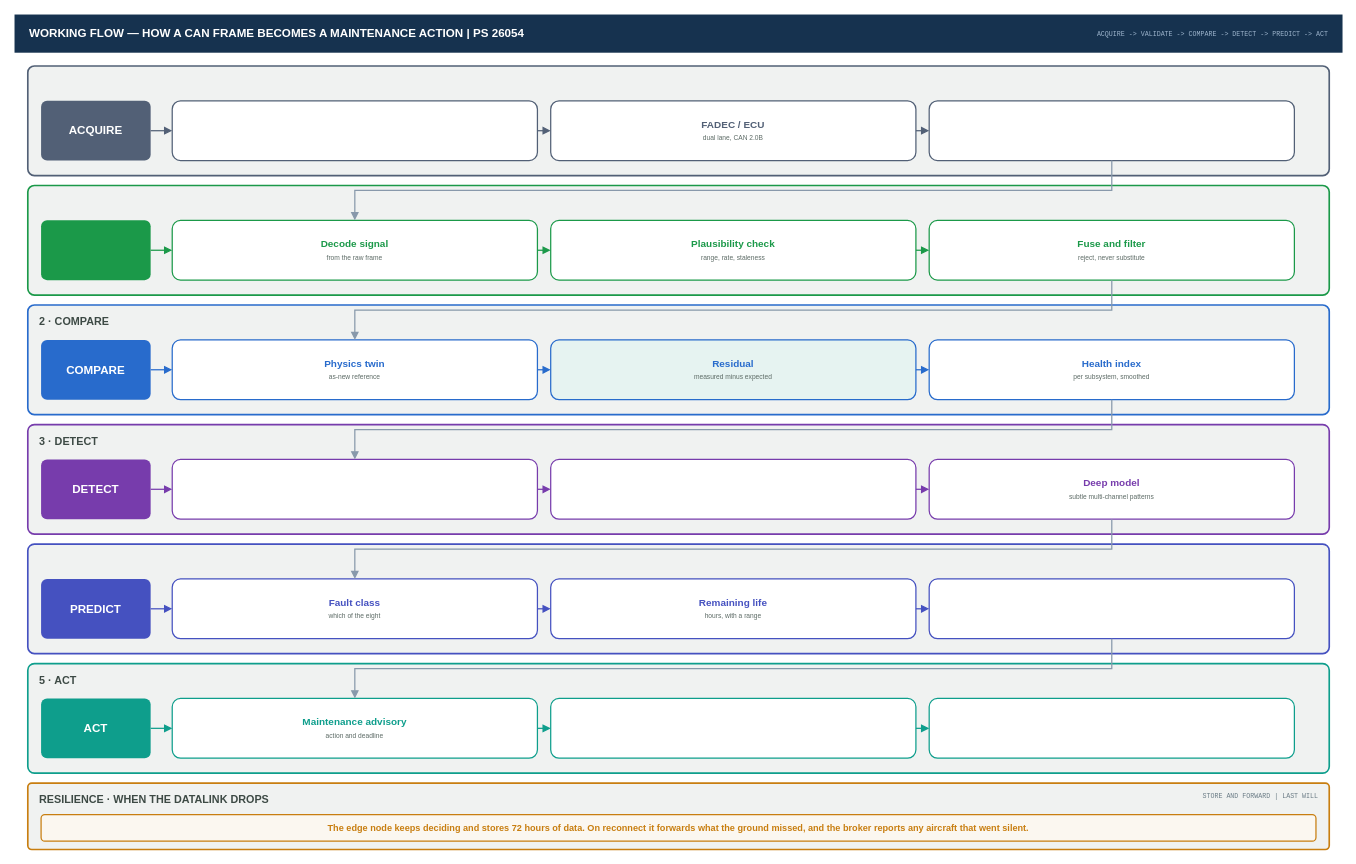
The diagram is 1356 pixels wide and 864 high, and some of its shapes have lost their labels. The shapes that lost their labels are listed below. From the top down, each one's box as (x1, y1, x2, y2) in pixels, then its label:
(171, 100, 538, 161): Engine sensors nine measured channels
(27, 65, 1330, 176): 0 · ACQUIRE
(928, 100, 1295, 161): CAN frame CANaerospace DBC
(41, 220, 150, 280): VALIDATE
(27, 184, 1330, 295): 1 · VALIDATE
(171, 458, 538, 519): Rules on the edge instant safety alerts
(550, 458, 916, 519): Statistical models unusual behaviour
(27, 543, 1330, 654): 4 · PREDICT
(928, 578, 1295, 639): Failure probability for the next sortie
(550, 697, 916, 758): Ground console alerts, trends, replay
(928, 697, 1295, 758): Mission report post-flight record
